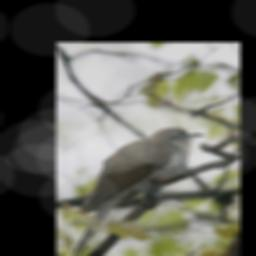Cuckoo: (66, 126, 203, 256)
